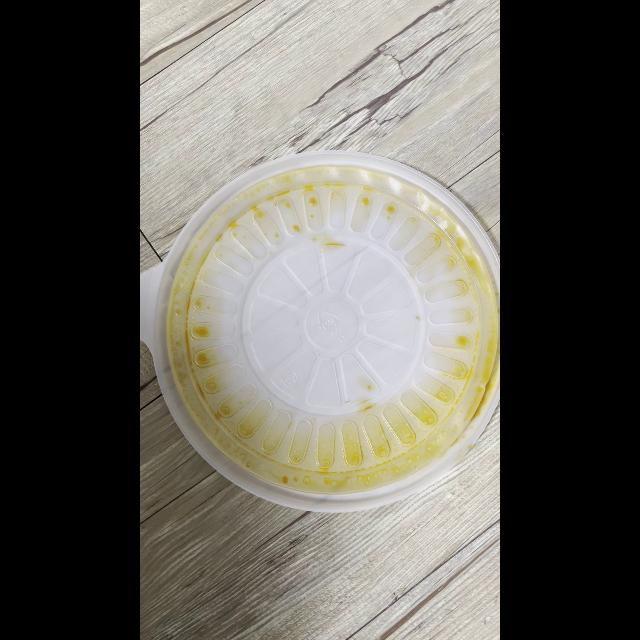dirty: (140, 154, 500, 508)
